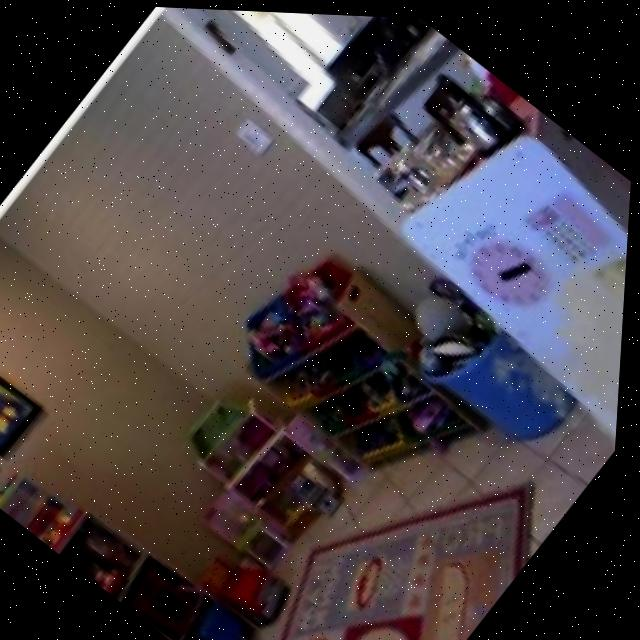Smoke: (456, 157, 633, 467)
